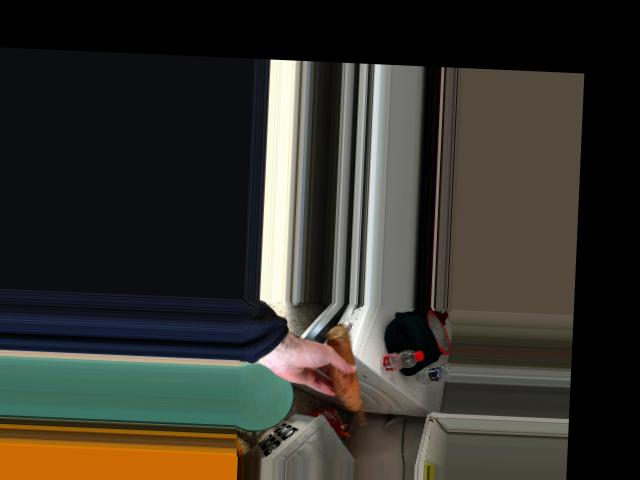sweet_potato: (319, 329, 374, 422)
